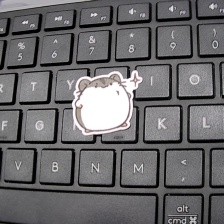mouse: (69, 68, 146, 138)
